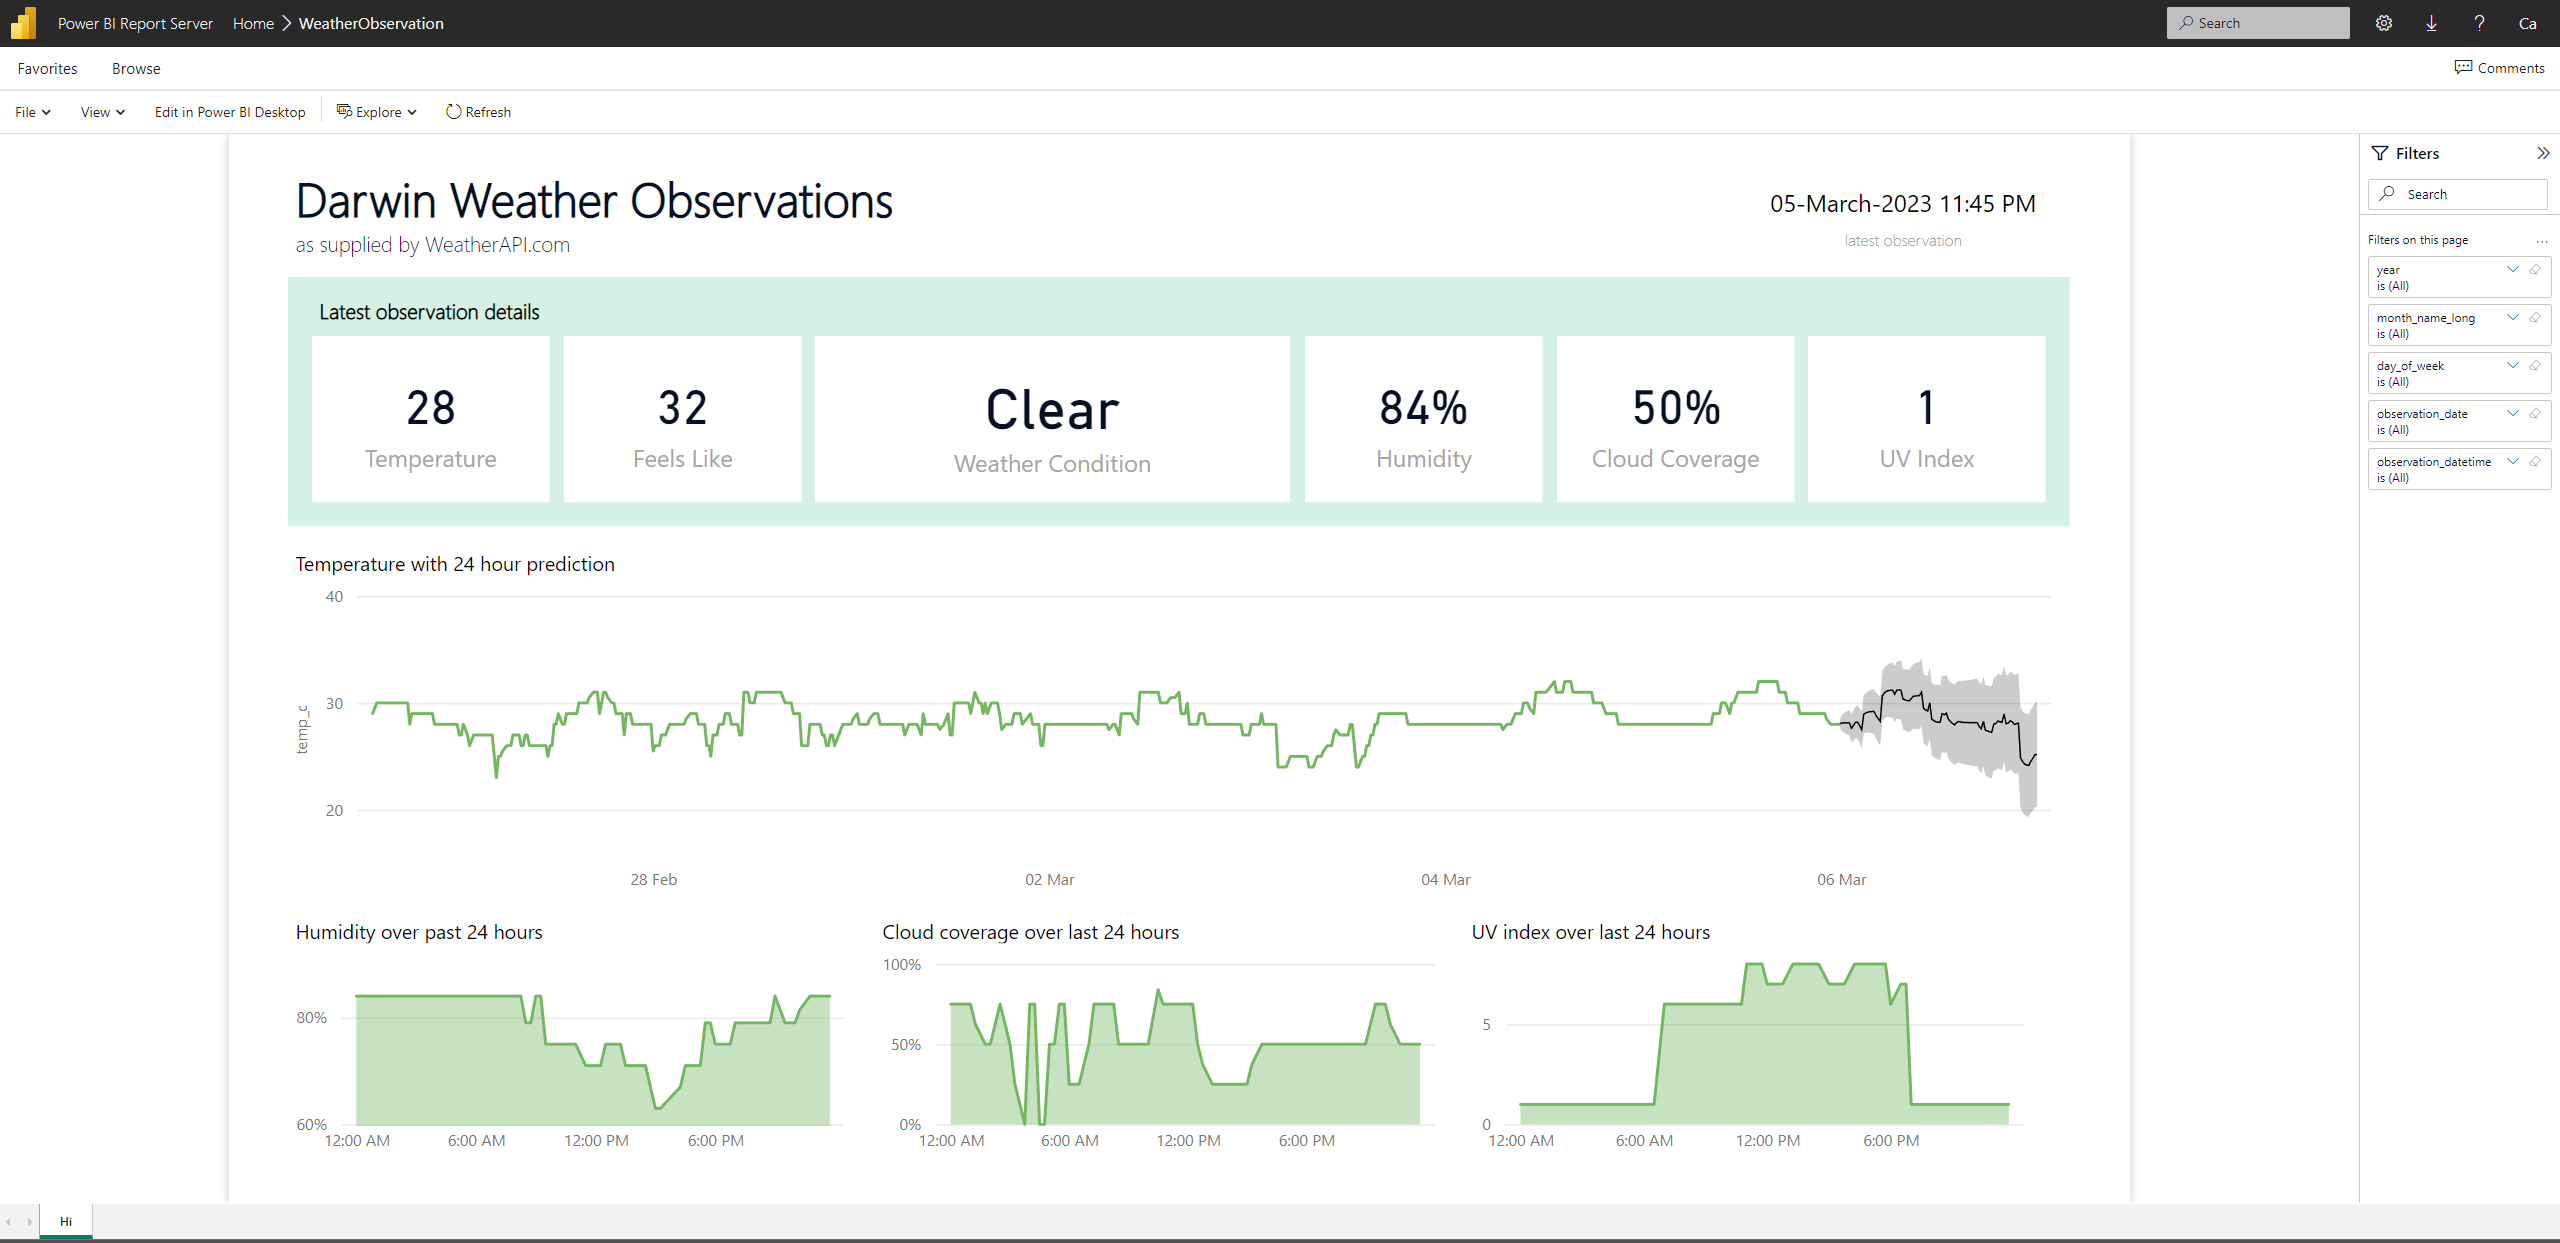

The dashboard page shown, as its layout file describes it:
{"tool":"powerbi","page":{"name":"Hi","canvas":[1280,720],"ordinal":0},"visuals":[{"type":"textbox","box":[40,16,472,80],"z":0},{"type":"card","fields":{"Values":["factWeatherObservation.observation_datetime"]},"box":[1016,16,224,80],"z":1000},{"type":"lineChart","title":"Temperature with 24 hour prediction","fields":{"Y":["factWeatherObservation.temp_c"],"Category":["dimDate.Calendar.year","dimDate.Calendar.month_name_long","dimDate.Calendar.day_of_week","dimDate.Calendar.observation_date","factWeatherObservation.observation_datetime"]},"box":[40,280,1200,240],"z":2000},{"type":"shape","box":[40,96,1200,168],"z":3000,"group":"g1"},{"type":"card","fields":{"Values":["factWeatherObservation.temp_c"]},"box":[56,136,160,112],"z":4000,"group":"g1"},{"type":"card","fields":{"Values":["factWeatherObservation.uv"]},"box":[1064,136,160,112],"z":5000,"group":"g1"},{"type":"card","fields":{"Values":["factWeatherObservation.feelslike_c"]},"box":[225.6,136,160,112],"z":6000,"group":"g1"},{"type":"card","fields":{"Values":["dimCondition.text"]},"box":[395.2,136,320,112],"z":7000,"group":"g1"},{"type":"card","fields":{"Values":["factWeatherObservation.humidity_percent"]},"box":[724.8,136,160,112],"z":8000,"group":"g1"},{"type":"card","fields":{"Values":["factWeatherObservation.cloud_percent"]},"box":[894.4,136,160,112],"z":9000,"group":"g1"},{"type":"textbox","box":[56,104,296,32],"z":10000,"group":"g1"},{"type":"group","id":"g1","title":"Group 1","box":[40,96,1200,168],"z":10001},{"type":"stackedAreaChart","title":"Humidity over past 24 hours","fields":{"Category":["dimDate.Calendar.year","dimDate.Calendar.month_name_long","dimDate.Calendar.day_of_week","dimDate.Calendar.observation_date","factWeatherObservation.observation_datetime"],"Y":["factWeatherObservation.humidity_percent"]},"box":[40,528,390,168],"z":10002},{"type":"stackedAreaChart","title":"Cloud coverage over last 24 hours","fields":{"Category":["dimDate.Calendar.year","dimDate.Calendar.month_name_long","dimDate.Calendar.day_of_week","dimDate.Calendar.observation_date","factWeatherObservation.observation_datetime"],"Y":["factWeatherObservation.cloud_percent"]},"box":[435,528,392,168],"z":10003},{"type":"stackedAreaChart","title":"UV index over last 24 hours","fields":{"Category":["dimDate.Calendar.year","dimDate.Calendar.month_name_long","dimDate.Calendar.day_of_week","dimDate.Calendar.observation_date","factWeatherObservation.observation_datetime"],"Y":["factWeatherObservation.uv"]},"box":[832,528,392,168],"z":10004}]}

Visuals, with their boxes on the page's 1280x720 design canvas (x1, y1, x2, y2). These are canvas units, not pixel positions in the 2560x1243 screenshot, which may show the page scaled, cropped or inside an application window:
textbox: 40, 16, 512, 96
card - factWeatherObservation.observation_datetime: 1016, 16, 1240, 96
"Temperature with 24 hour prediction" lineChart: 40, 280, 1240, 520
shape: 40, 96, 1240, 264
card - factWeatherObservation.temp_c: 56, 136, 216, 248
card - factWeatherObservation.uv: 1064, 136, 1224, 248
card - factWeatherObservation.feelslike_c: 226, 136, 386, 248
card - dimCondition.text: 395, 136, 715, 248
card - factWeatherObservation.humidity_percent: 725, 136, 885, 248
card - factWeatherObservation.cloud_percent: 894, 136, 1054, 248
textbox: 56, 104, 352, 136
"Group 1" group: 40, 96, 1240, 264
"Humidity over past 24 hours" stackedAreaChart: 40, 528, 430, 696
"Cloud coverage over last 24 hours" stackedAreaChart: 435, 528, 827, 696
"UV index over last 24 hours" stackedAreaChart: 832, 528, 1224, 696
